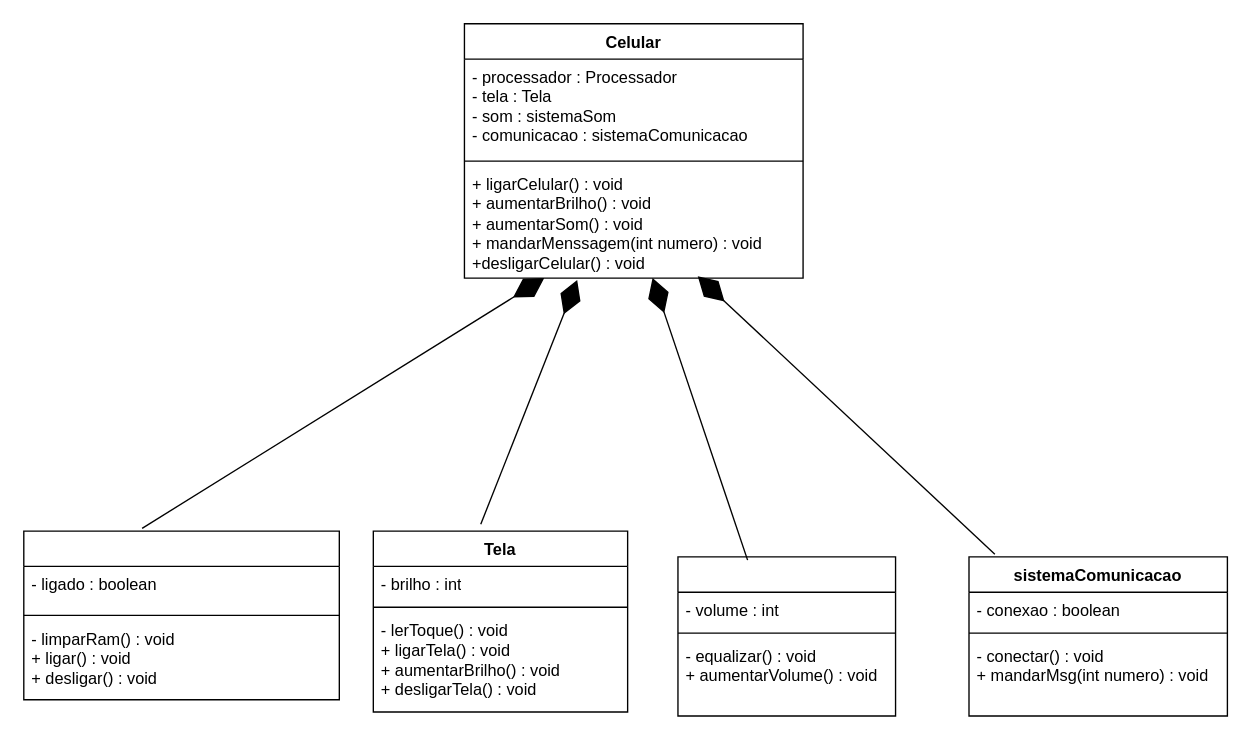
The diagram is 1251 pixels wide and 744 high, and some of its shapes have lost their labels. The shapes that lost their labels are listed below. From the top down, each one's box as (x1, y1, x2, y2) in pixels, then its label:
(22, 530, 339, 700): Processador
(677, 556, 896, 716): sistemaSom
